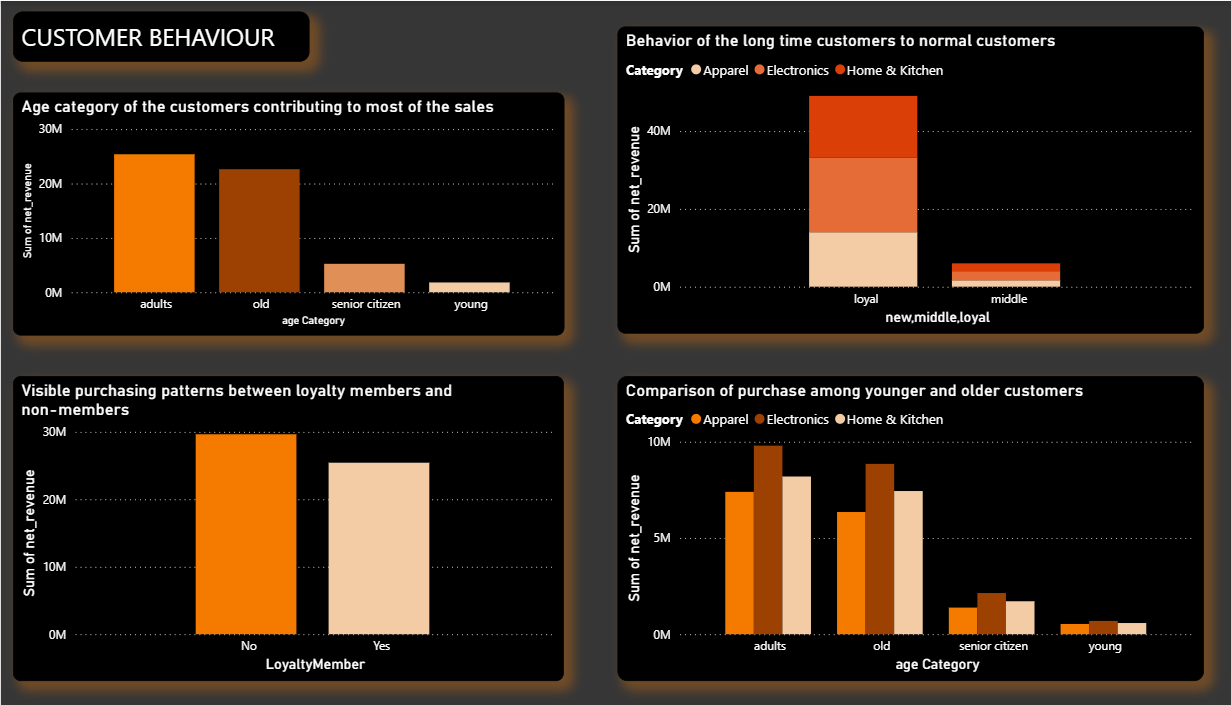

This screenshot's page, from the dashboard's own definition file:
{"tool":"powerbi","page":{"name":"Page 2","canvas":[1280,720],"ordinal":1},"visuals":[{"type":"columnChart","title":"Age category of the customers contributing to most of the sales","fields":{"Category":["Customers.age Category"],"Y":["Sum(Sales.net_revenue)"]},"box":[11.7,91.7,556.7,245],"z":0},{"type":"textbox","box":[12.7,11.1,299,50.9],"z":1000},{"type":"columnChart","title":"Behavior of the long time customers to normal customers","fields":{"Category":["Customers.new,middle,loyal"],"Y":["Sum(Sales.net_revenue)"],"Series":["Products.Category"]},"box":[622,26,592,310],"z":2000},{"type":"columnChart","title":"Visible purchasing patterns between loyalty members and non-members","fields":{"Category":["Customers.LoyaltyMember"],"Y":["Sum(Sales.net_revenue)"]},"box":[12,378,556,308],"z":3000},{"type":"clusteredColumnChart","title":"Comparison of purchase among younger and older customers","fields":{"Category":["Customers.age Category"],"Y":["Sum(Sales.net_revenue)"],"Series":["Products.Category"]},"box":[622,378,592,308],"z":4000}]}

Visuals, with their boxes in screenshot pixels (x1, y1, x2, y2), scaled from the page's 1280x720 canvas onto the 1231x705 screenshot:
"Age category of the customers contributing to most of the sales" columnChart: Rect(11, 90, 547, 330)
textbox: Rect(12, 11, 300, 61)
"Behavior of the long time customers to normal customers" columnChart: Rect(598, 25, 1168, 329)
"Visible purchasing patterns between loyalty members and non-members" columnChart: Rect(12, 370, 546, 672)
"Comparison of purchase among younger and older customers" clusteredColumnChart: Rect(598, 370, 1168, 672)
